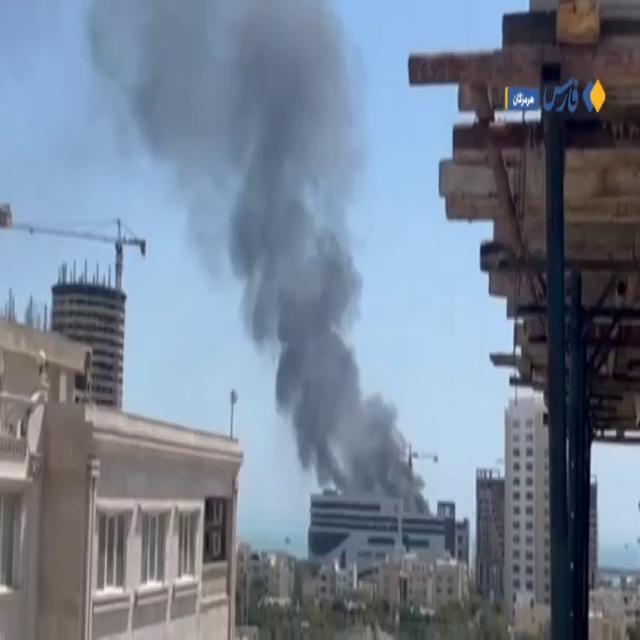Smoke: (238, 14, 306, 279), (297, 270, 354, 478), (147, 24, 226, 144)
